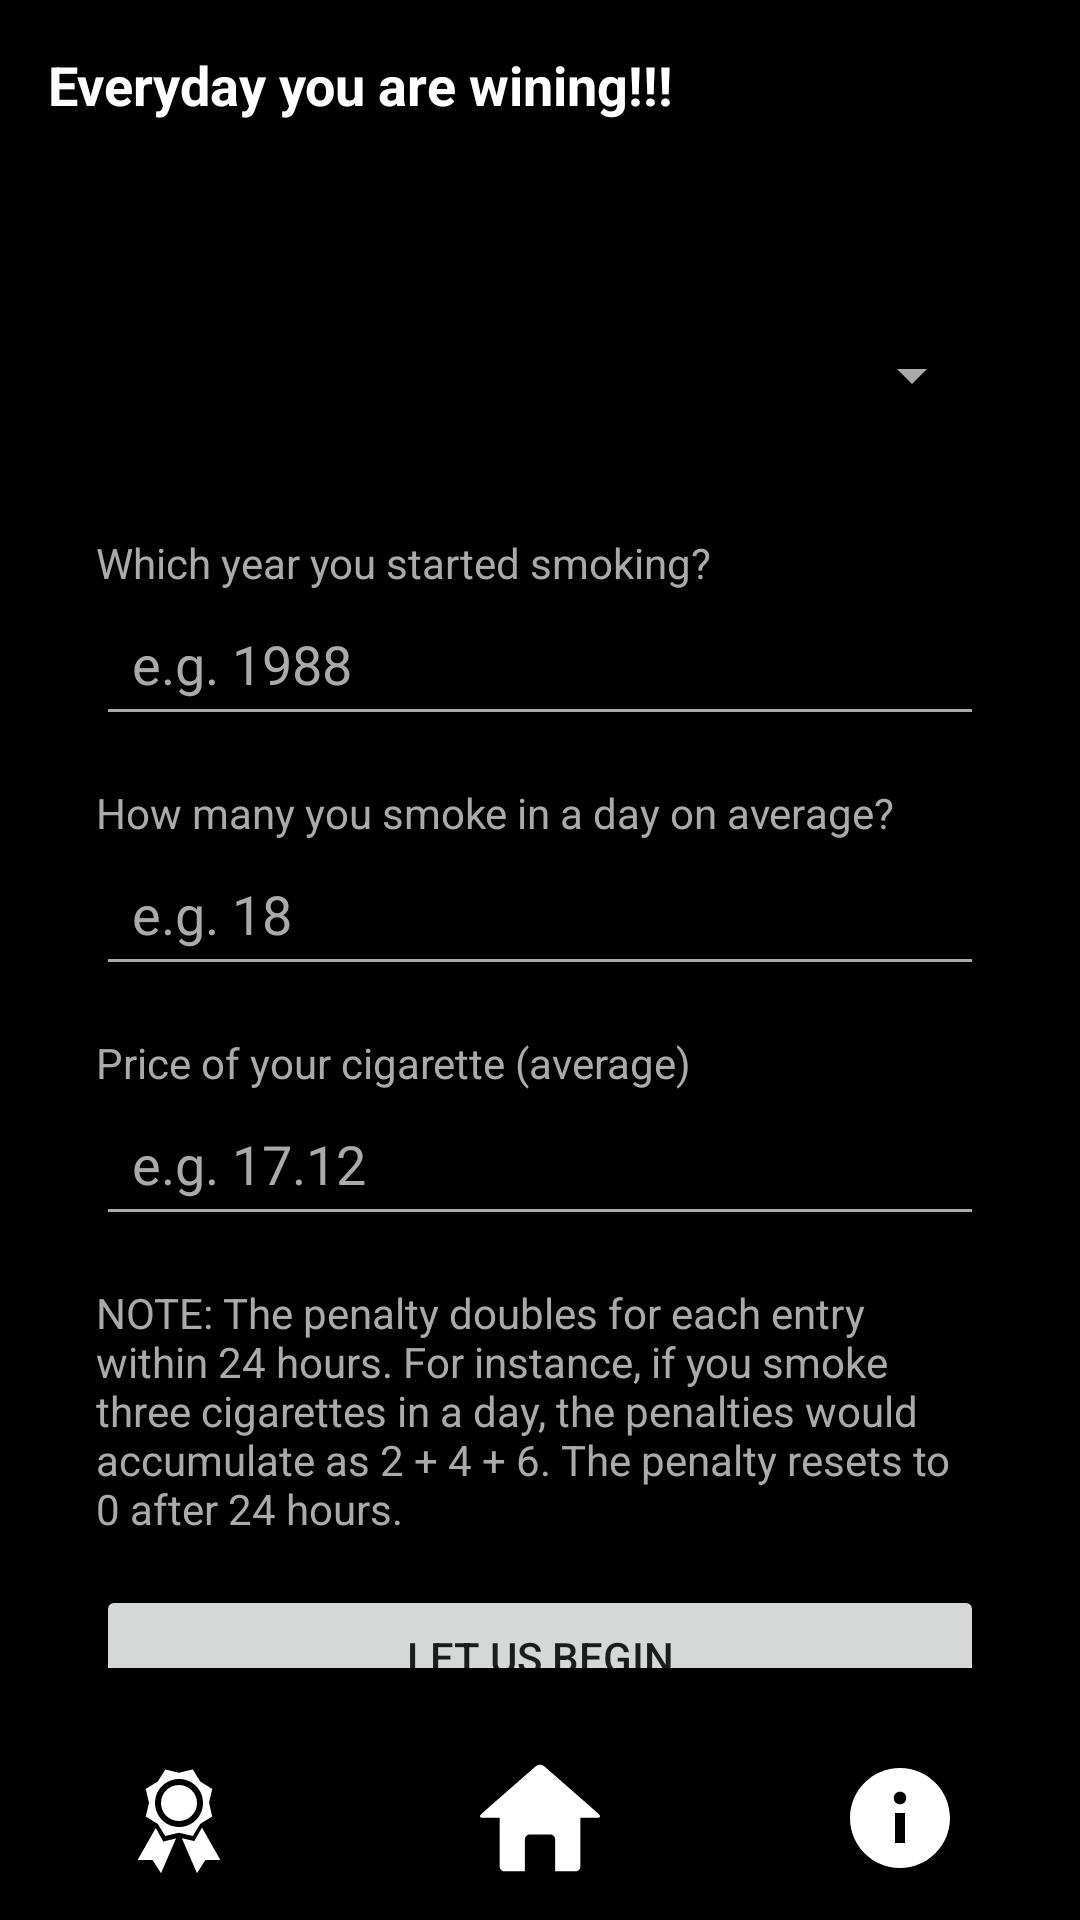

Icons on this 1080 x 1920 Android screen, each with the point to tap as point (x, y):
About: point (900, 1818)
Badge: point (179, 1821)
Home: point (540, 1818)
